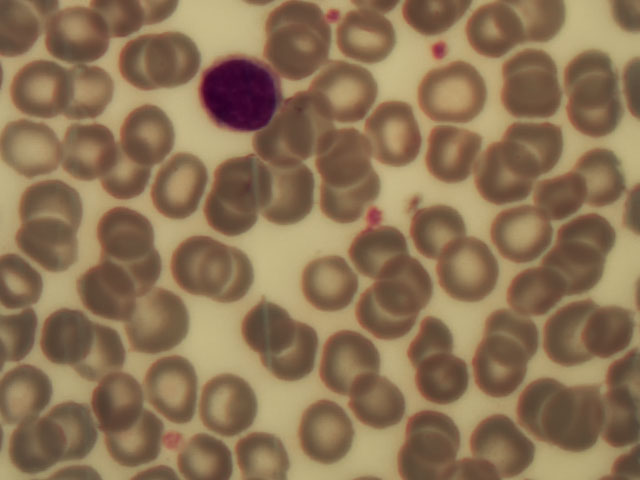Platelets: (359, 201, 393, 230), (326, 4, 343, 25), (431, 40, 449, 59), (165, 431, 182, 449)
RBC: (49, 6, 107, 67), (10, 58, 68, 119), (60, 61, 118, 122), (108, 32, 166, 93), (142, 24, 200, 85), (119, 96, 177, 157), (98, 137, 156, 198), (61, 120, 119, 181), (8, 118, 66, 179), (26, 168, 84, 229), (21, 212, 79, 273), (35, 304, 93, 365), (73, 329, 131, 390), (74, 257, 132, 318), (102, 234, 160, 295), (99, 200, 157, 261), (147, 155, 205, 216), (200, 176, 258, 237), (215, 147, 273, 208), (248, 162, 306, 223), (258, 116, 316, 177), (272, 91, 330, 152), (313, 64, 371, 125), (276, 27, 334, 88), (338, 5, 396, 66), (368, 98, 426, 159), (314, 120, 372, 181), (319, 151, 377, 212), (299, 250, 357, 311), (260, 327, 318, 388), (237, 294, 295, 355), (202, 242, 260, 303), (167, 231, 225, 292), (139, 292, 197, 353), (147, 354, 205, 415), (87, 368, 145, 429), (99, 398, 157, 459), (48, 396, 106, 457), (8, 416, 66, 477), (1, 358, 59, 419), (197, 369, 255, 430), (176, 419, 234, 480), (232, 419, 290, 480), (297, 401, 355, 462), (348, 371, 406, 432), (323, 334, 381, 395), (354, 283, 412, 344), (371, 254, 429, 315), (344, 224, 402, 285), (404, 202, 462, 263), (440, 237, 498, 298), (486, 208, 544, 269), (478, 152, 536, 213), (501, 114, 559, 175), (427, 115, 485, 176), (425, 63, 483, 124), (469, 8, 527, 69), (504, 35, 562, 96), (510, 75, 568, 136), (566, 81, 624, 142), (558, 49, 616, 110), (569, 146, 627, 207), (533, 164, 591, 225), (560, 202, 618, 263), (552, 234, 610, 295), (510, 261, 568, 322), (484, 296, 542, 357), (474, 334, 532, 395), (416, 360, 474, 421), (402, 308, 460, 369), (406, 394, 464, 455), (480, 416, 538, 477), (514, 377, 572, 438), (551, 382, 609, 443), (543, 301, 601, 362), (582, 303, 640, 364), (263, 1, 321, 61)
WBC: (200, 49, 280, 134)
